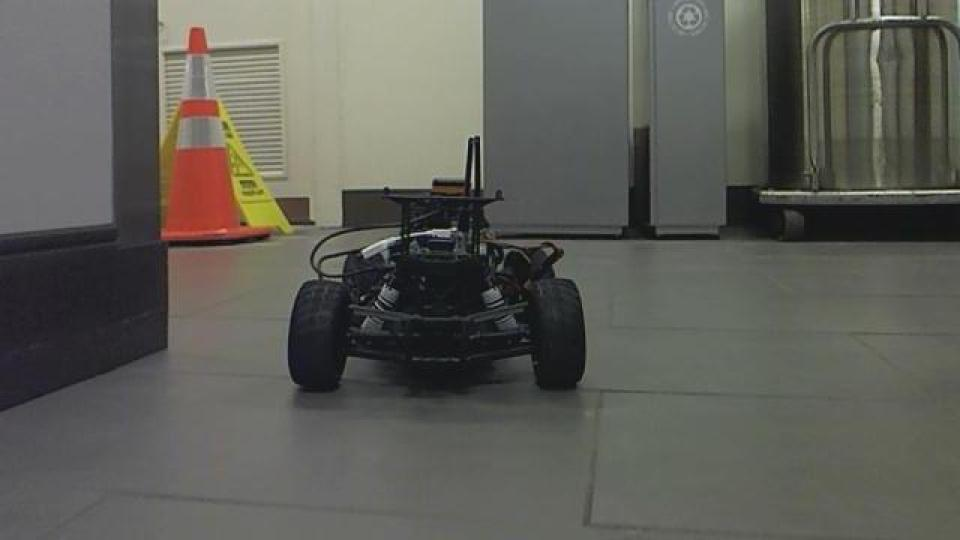car: (284, 134, 590, 396)
